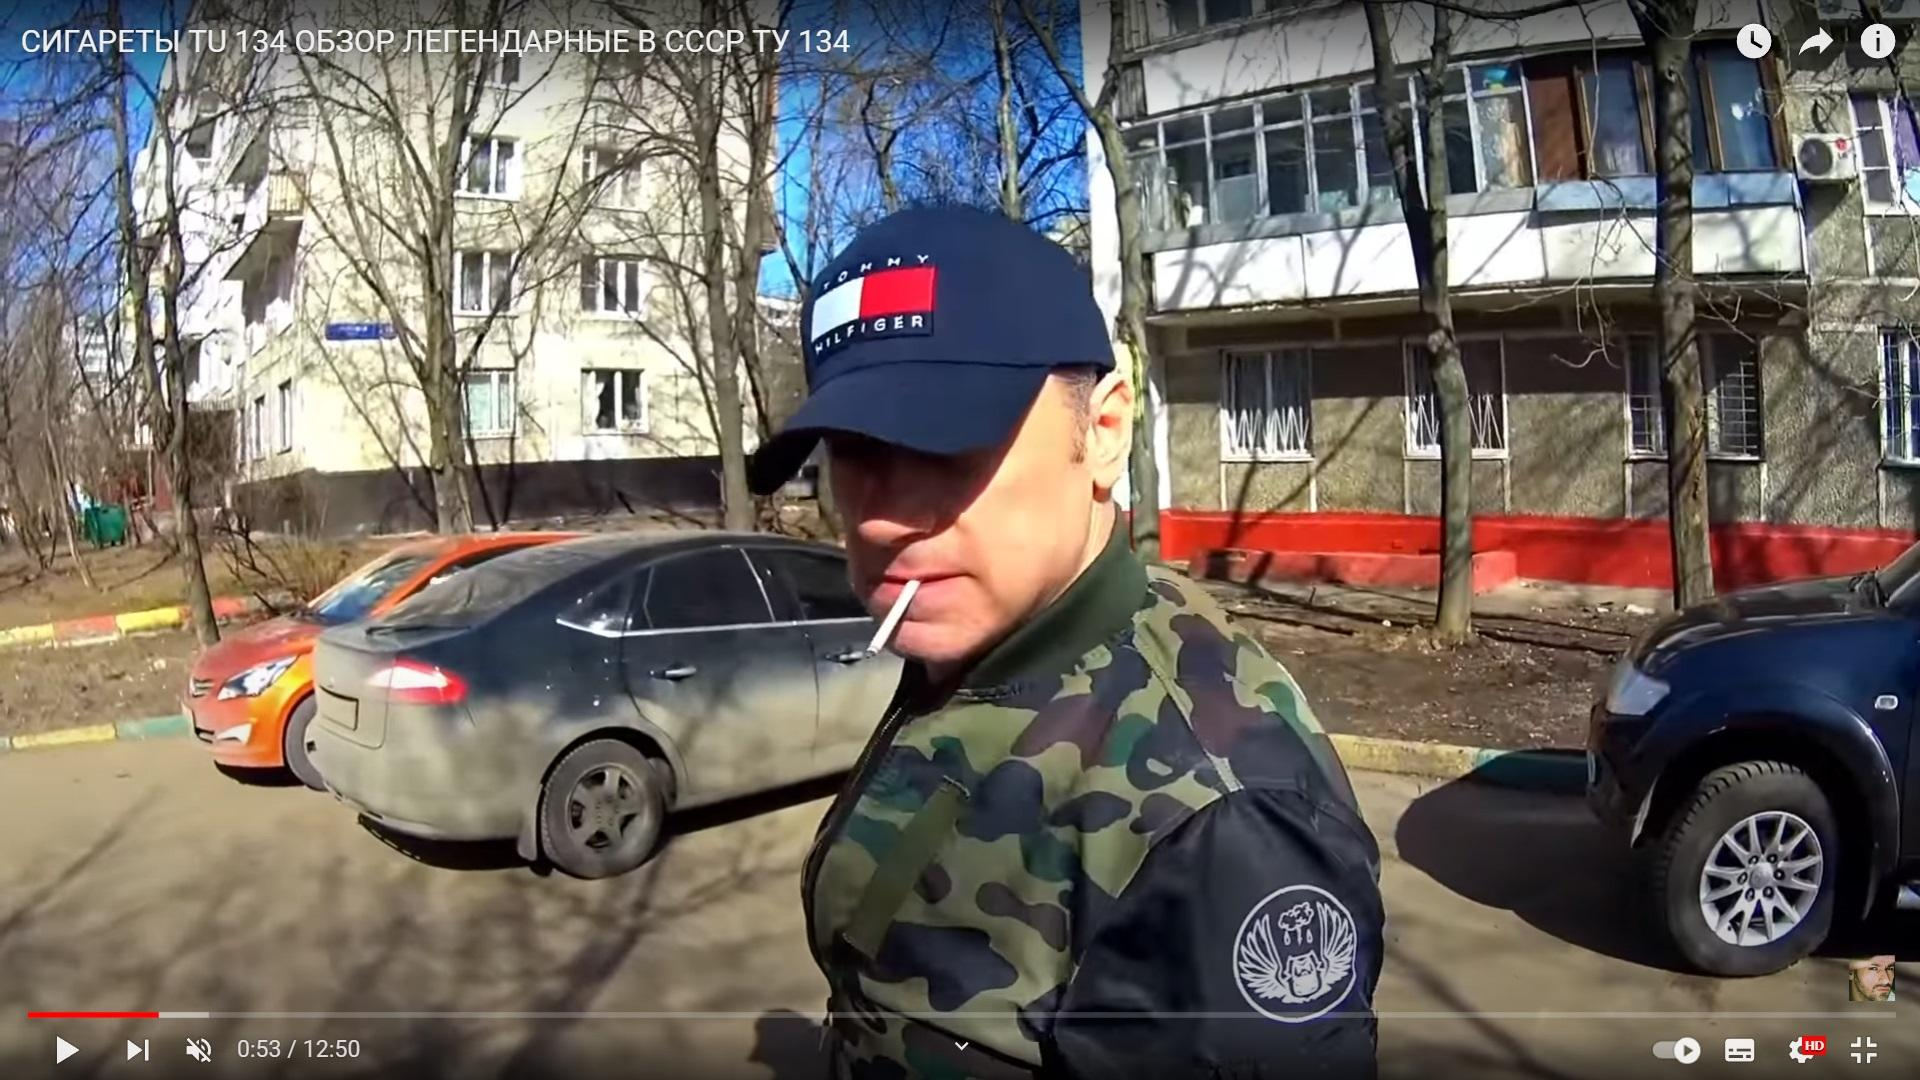cigarette: (865, 579, 923, 658)
